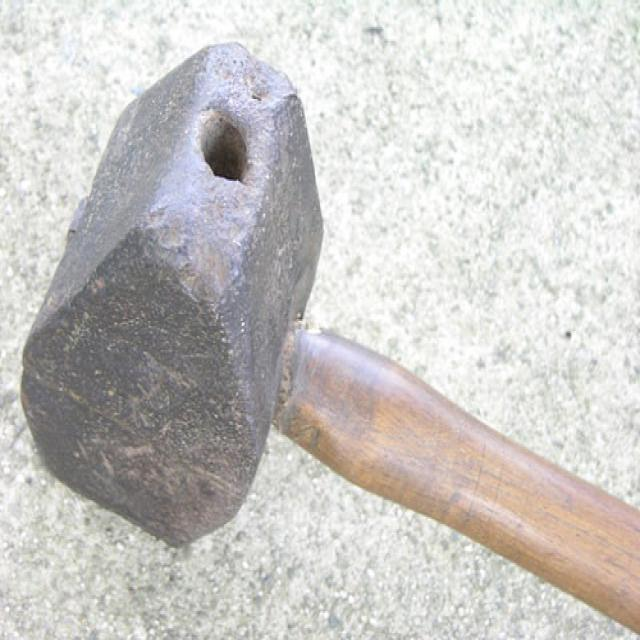hammer: (20, 43, 640, 640)
